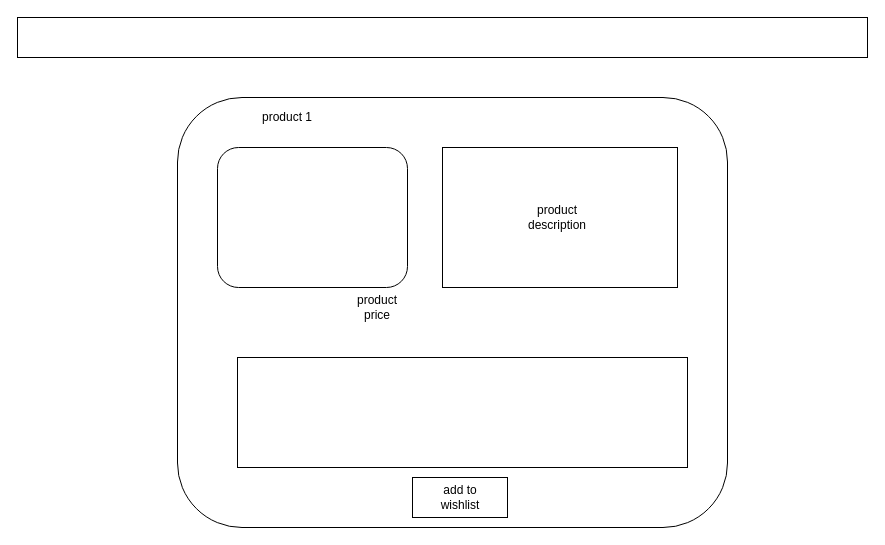
Image size: 885x545. Some labels were removed from this diagram. The shapes that lost their labels are listed below. From the top down, each one's centre as x and y in pixels, then its label:
point (312, 217): product photo
point (462, 412): more details about product, specs
